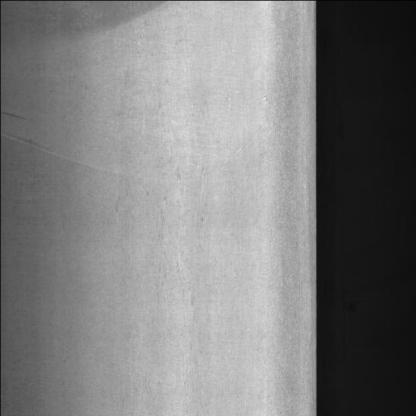crease: (0, 97, 112, 186)
